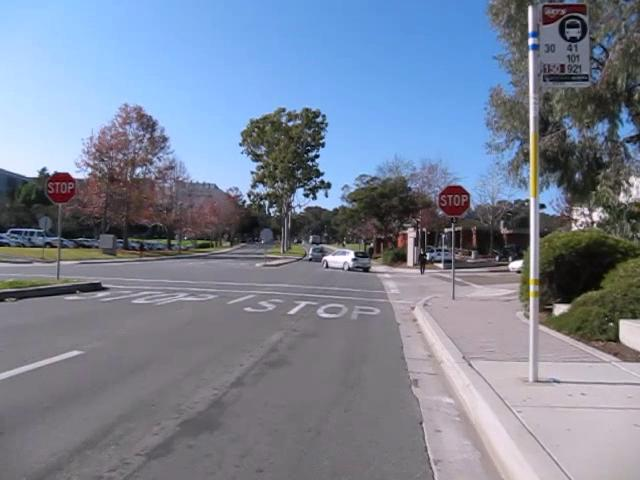stop: (44, 171, 77, 204), (440, 183, 470, 215)
